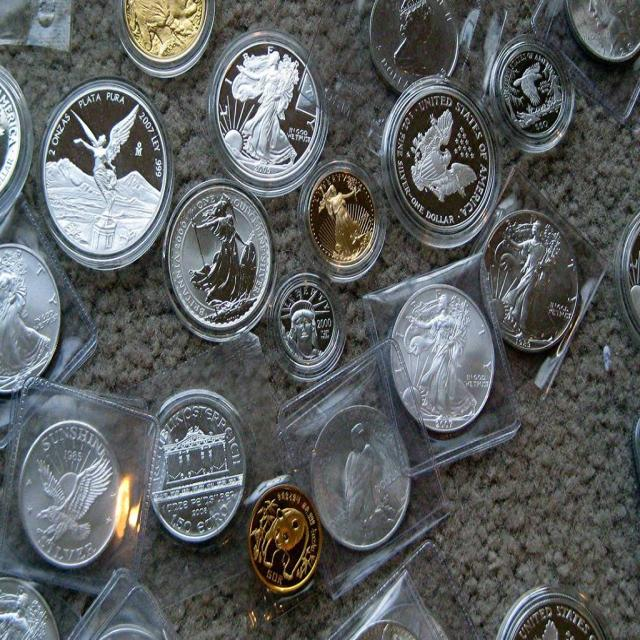Coin: (0, 0, 640, 639), (386, 288, 492, 436)
